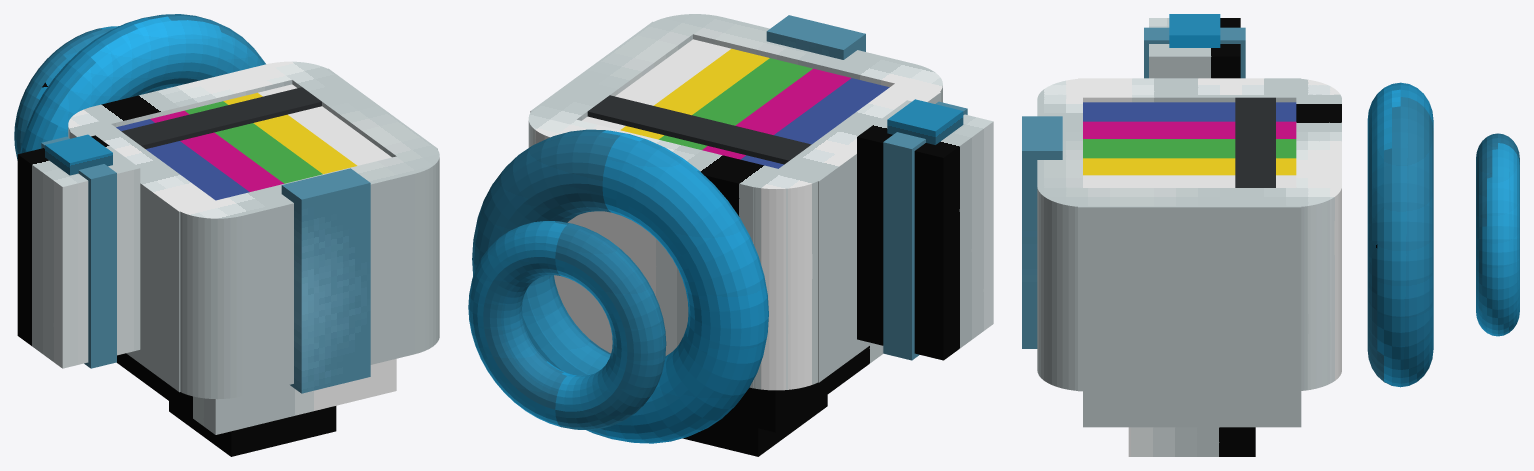
File: DeadMoni.obj
3 renders of one model, left to right at view 1: azimuth 30°, elevation 25°; view 2: azimuth 150°, elevation 25°; view 3: azimuth 270°, elevation 25°, orthographic. The views are drawn at different scales.
Visible parts, largest first — view 1: DeadMoni; view 2: DeadMoni; view 3: DeadMoni.
Boxes of the visible parts, left/top/right/bottom form: DeadMoni: left=14, top=14, right=439, bottom=456; DeadMoni: left=468, top=14, right=993, bottom=456; DeadMoni: left=1022, top=14, right=1519, bottom=456.
Size of the model in its own units: 3.16 by 2.9 by 3.92.
